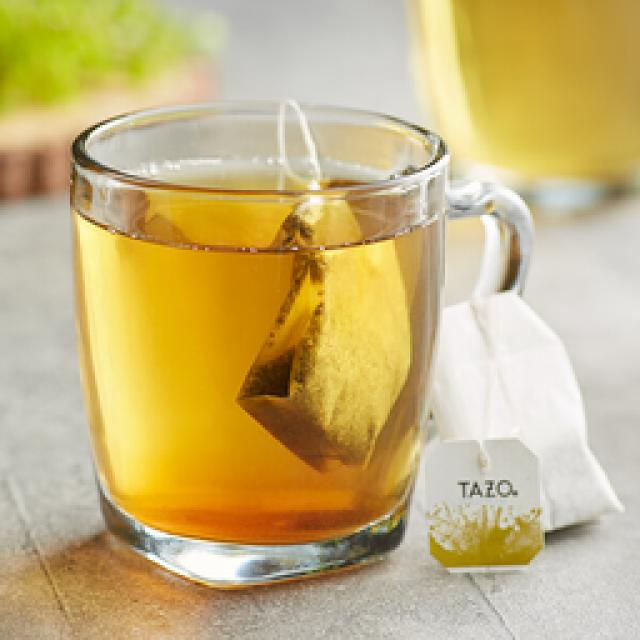tea-bags: (238, 221, 438, 471)
